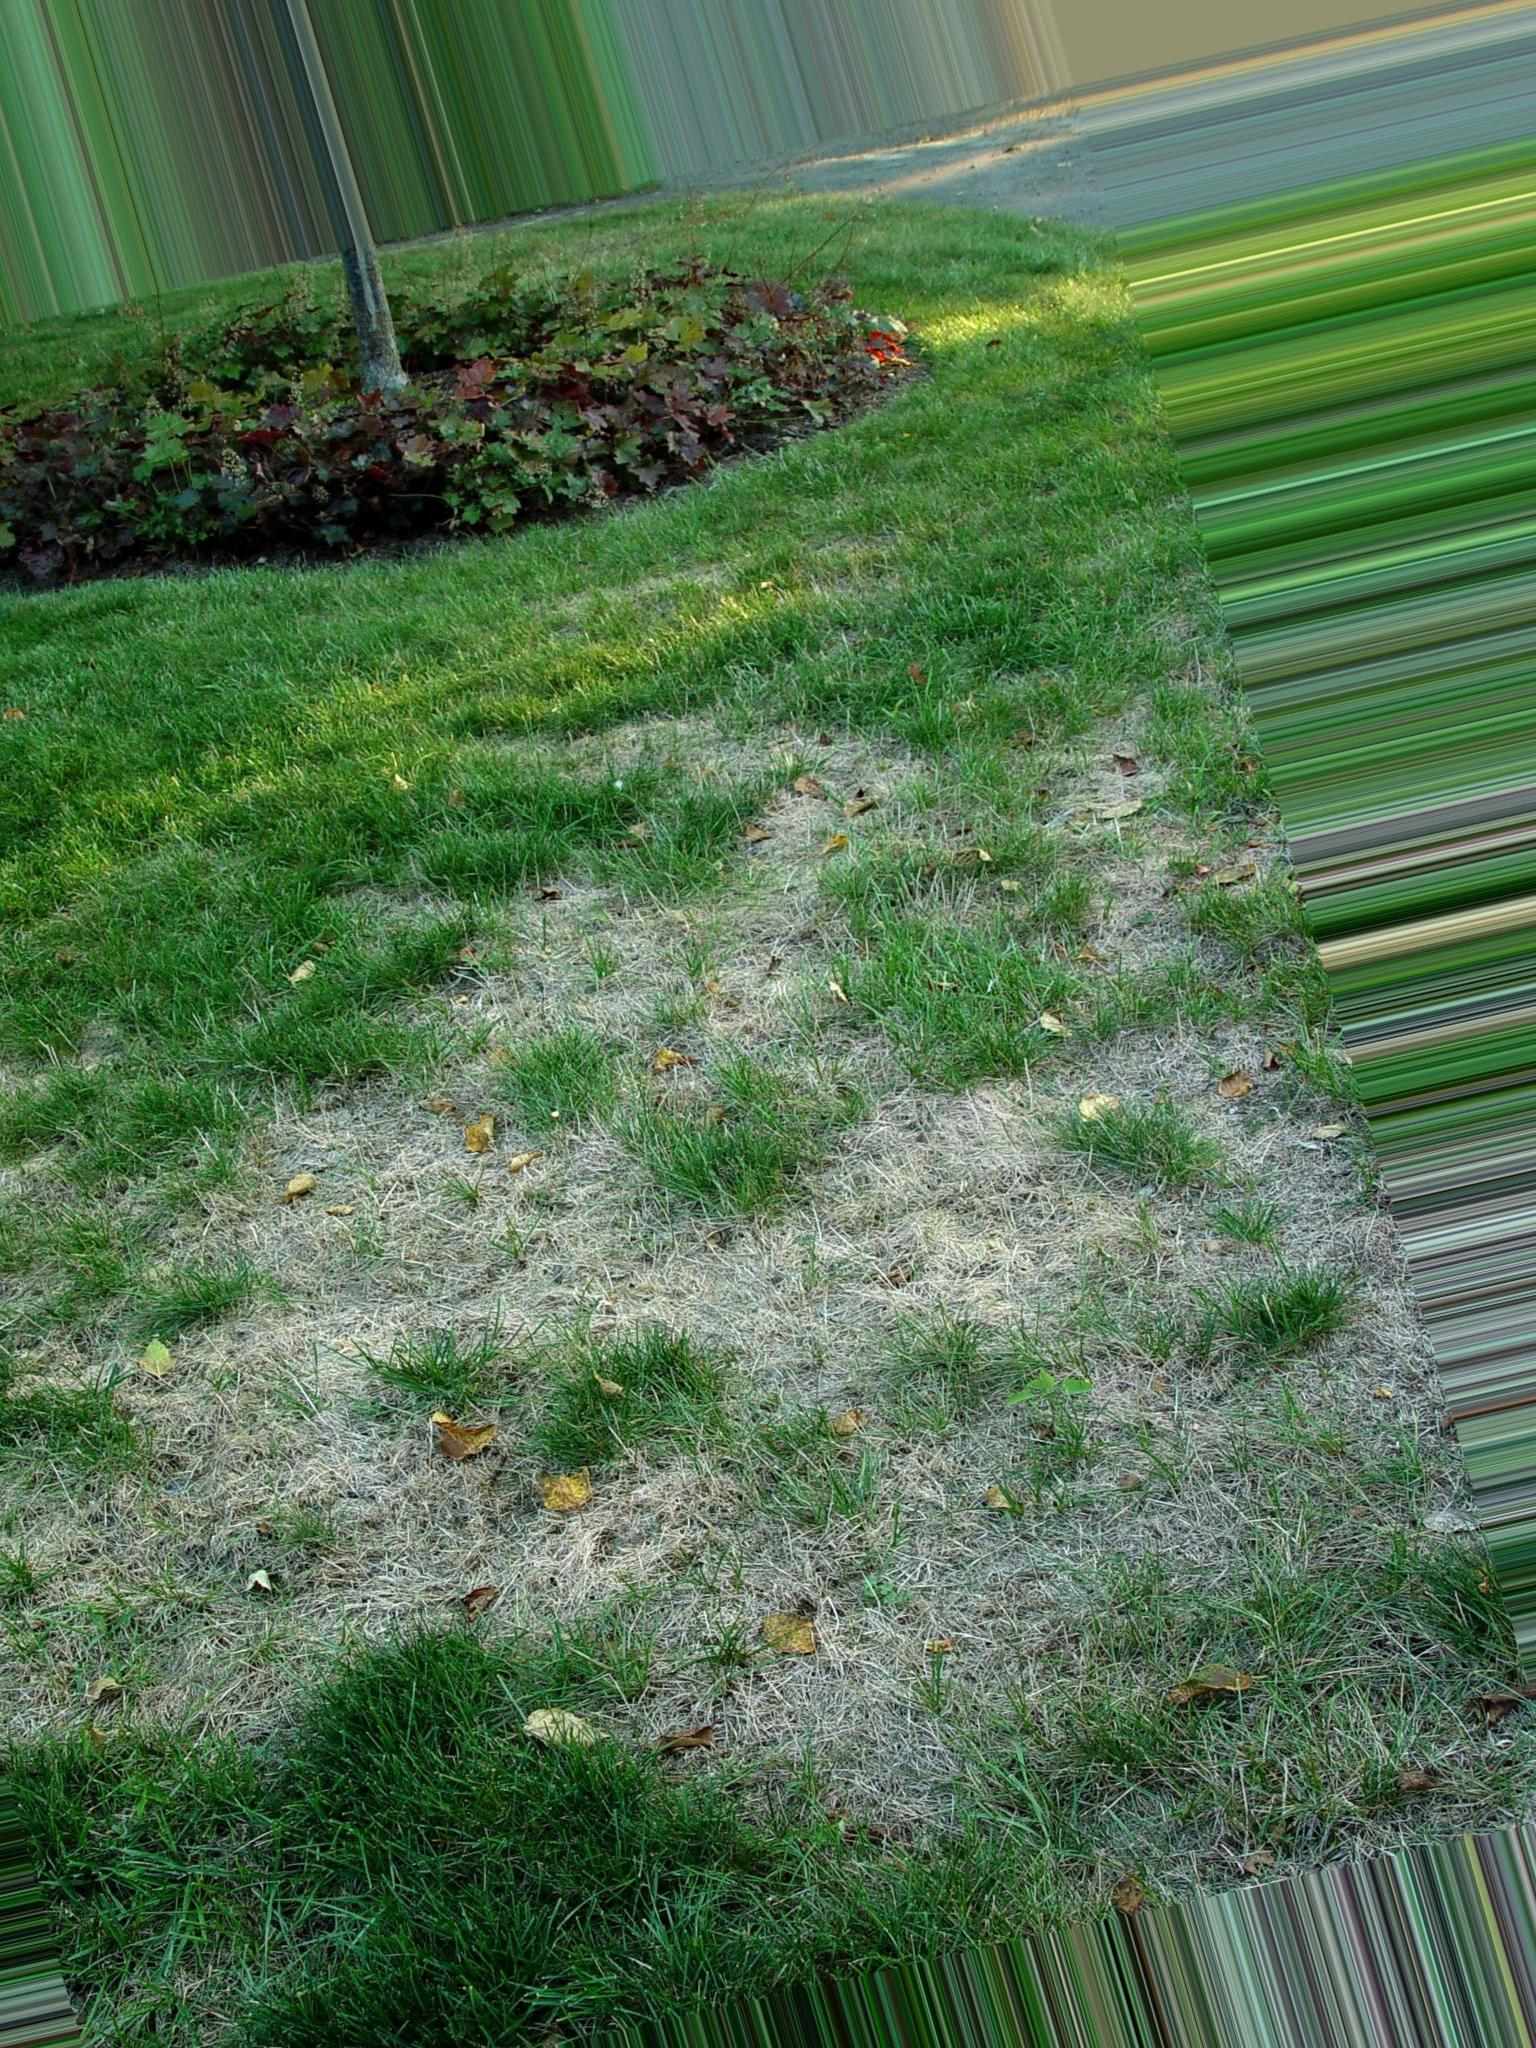patch: (92, 1472, 970, 1772), (287, 1043, 1092, 1356), (520, 676, 1107, 959), (1129, 1101, 1425, 1558), (1012, 1585, 1281, 1737)
